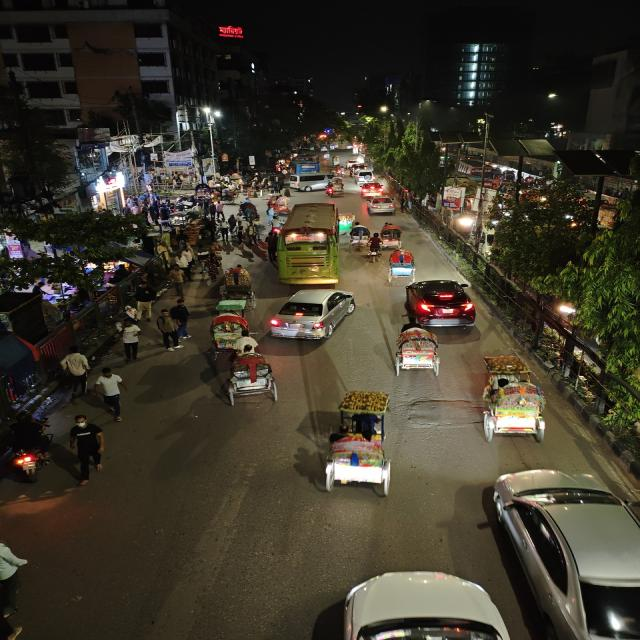bus: (265, 201, 341, 287), (293, 154, 323, 176)
car: (474, 467, 640, 640), (303, 565, 528, 640), (266, 286, 360, 344), (401, 278, 480, 330), (364, 194, 398, 216), (290, 174, 327, 192), (359, 181, 386, 197), (354, 170, 375, 183)
motorcycle: (1, 413, 58, 483), (364, 233, 382, 265), (326, 181, 334, 197)
pedestrian: (67, 414, 110, 480), (94, 366, 128, 422), (57, 346, 94, 396), (111, 318, 146, 364), (152, 309, 183, 352), (132, 282, 159, 320), (170, 300, 192, 342), (163, 264, 188, 298), (193, 256, 214, 285), (176, 247, 196, 276)
rickshaw: (313, 388, 399, 500), (476, 353, 550, 446), (207, 344, 284, 406), (390, 323, 448, 380), (206, 313, 248, 352), (218, 263, 257, 305), (387, 247, 420, 279), (378, 222, 403, 248), (348, 223, 369, 250), (337, 211, 358, 232)
